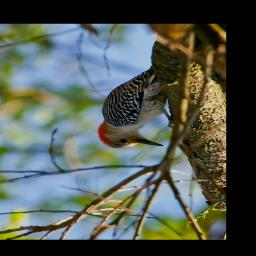Woodpecker: (79, 59, 182, 153)
